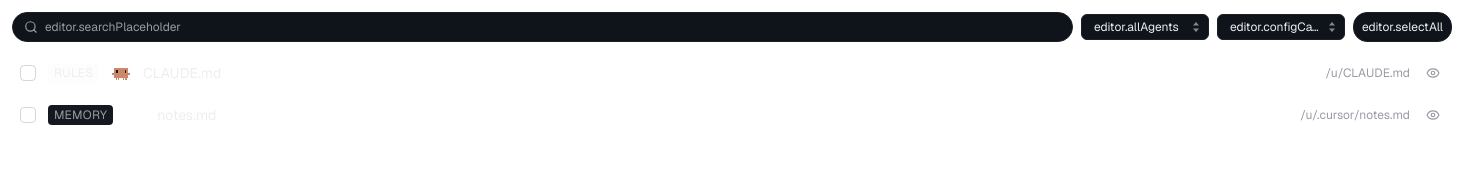
it: EditorConfigsTab › search matches agent + category + file name
In the field with placeholder "editor.searchPlaceholder": (542, 27) [12, 12, 1073, 42], type "cursor"
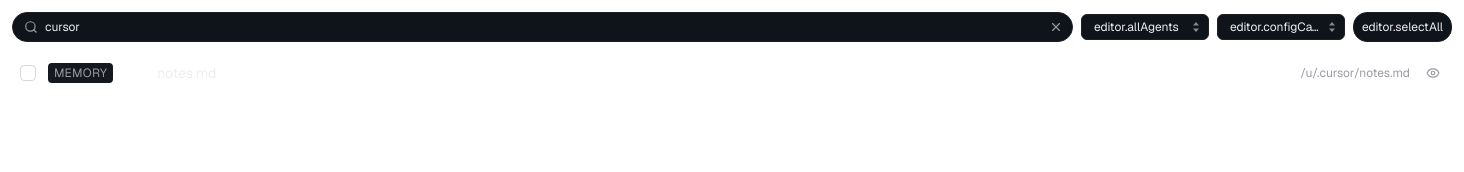
expect the checkbox "CLAUDE.md" is gone: met
